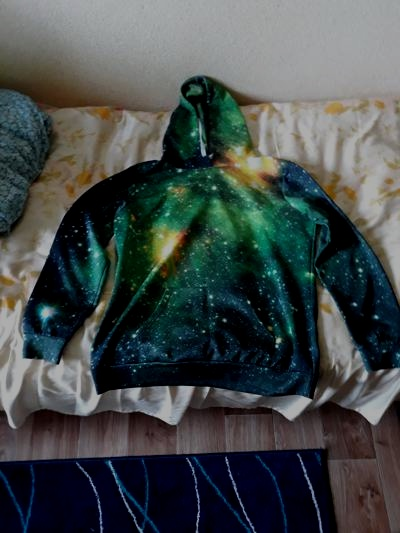Hoodie: (31, 69, 385, 424)
